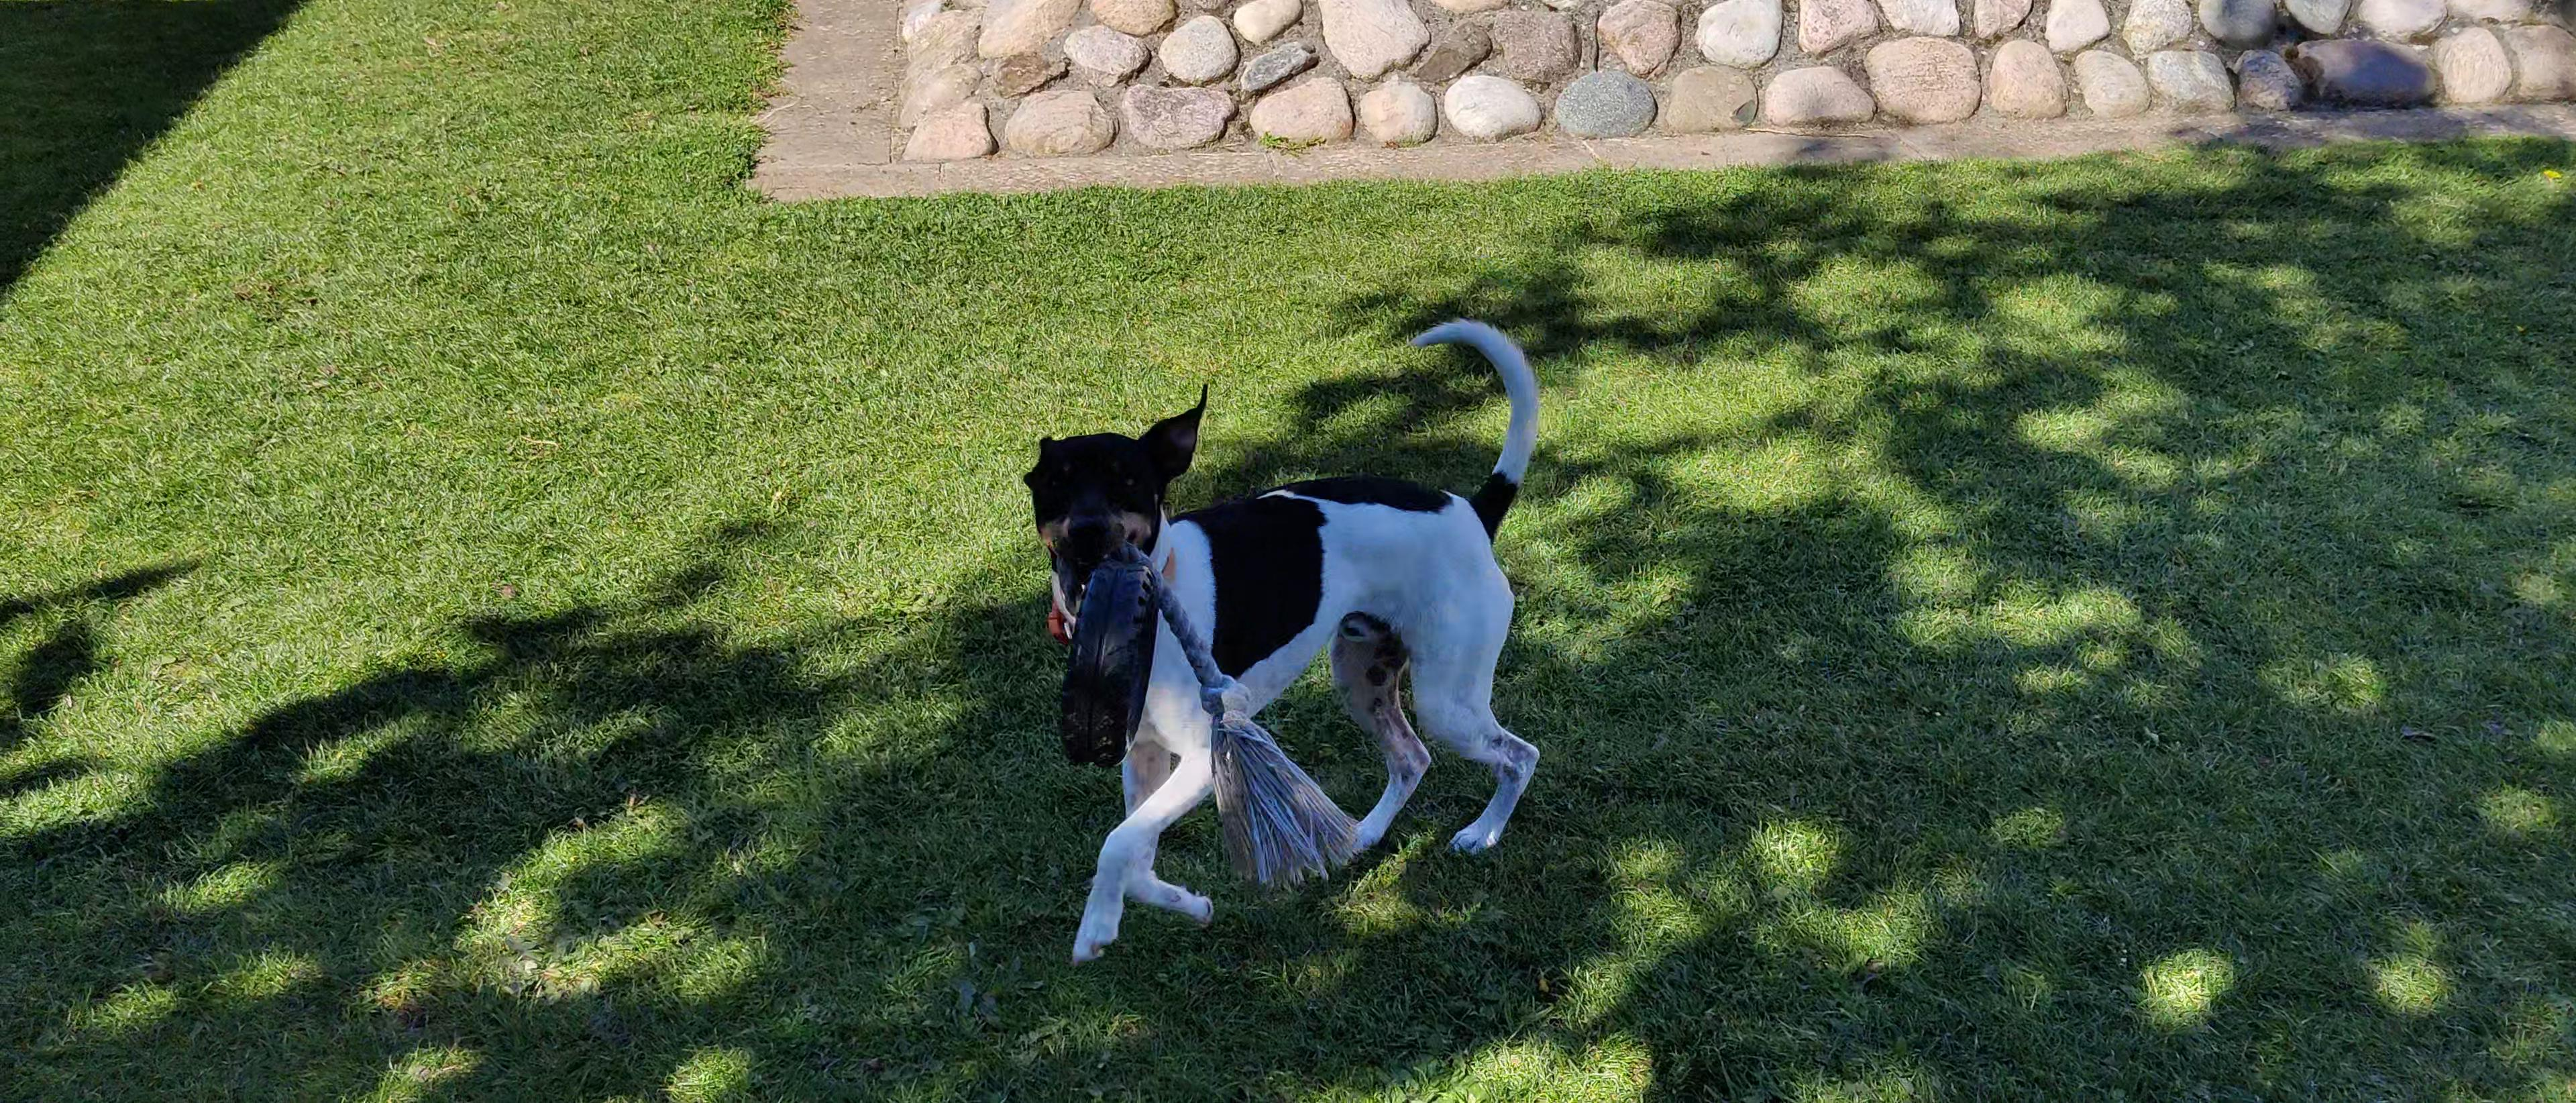Dog: (1005, 301, 1559, 965)
